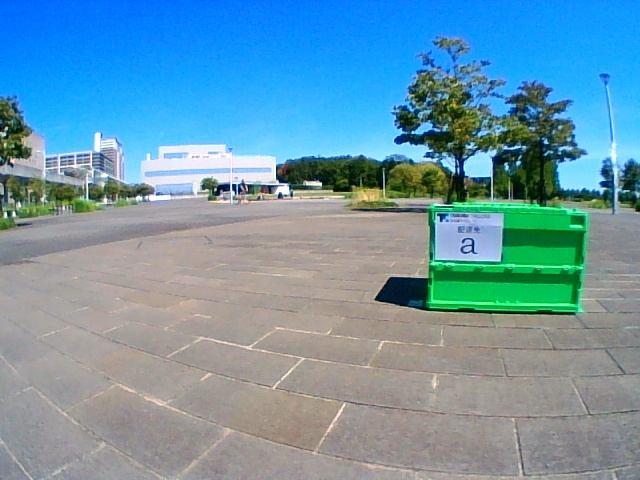green_box: (426, 202, 588, 314)
tag_a: (435, 213, 501, 261)
